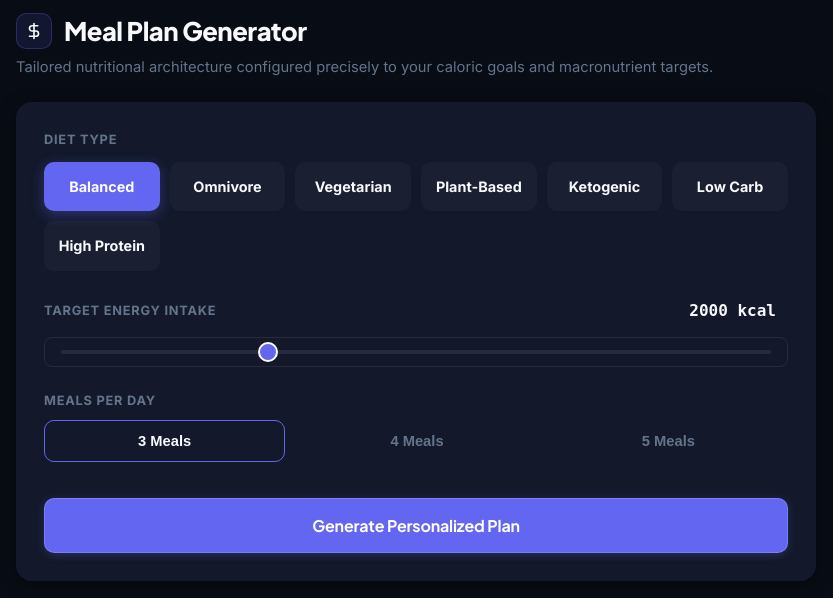
Test case: MealPlanner Component › generates grocery list from active meal plan
Step 1. Click the button "Generate Personalized Plan" → x=416, y=526, box [44,498,788,553]
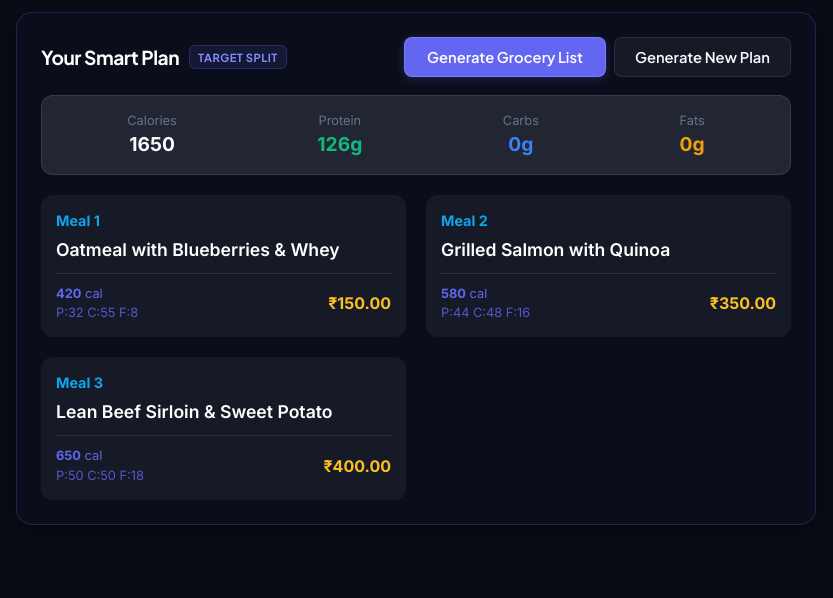
Result: the text "Oatmeal with Blueberries & Whey" is shown at [56,239,340,260]
Step 2. Click the button "Generate Grocery List" → x=505, y=57, box [404,37,606,77]
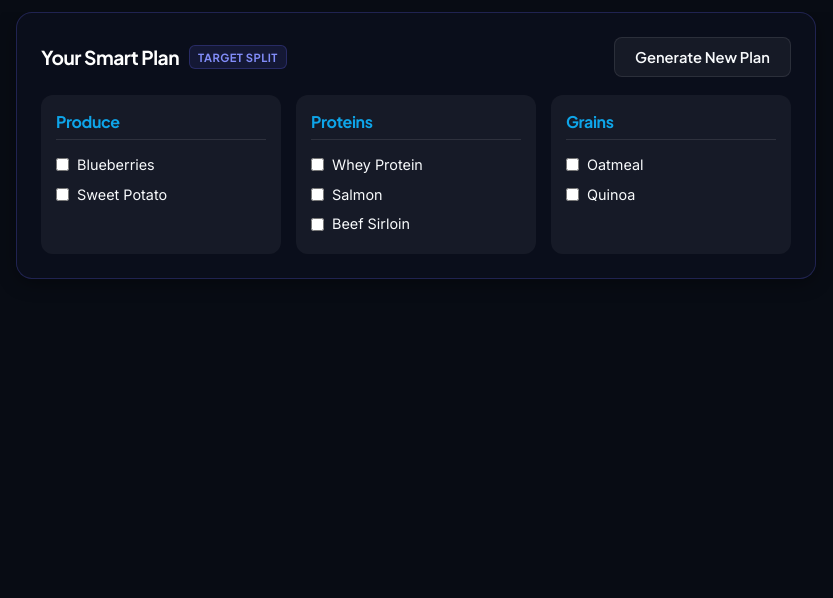
Result: the list item "Blueberries" is shown at [56,156,155,173]
Result: the heading "Produce" is shown at [56,110,266,140]
